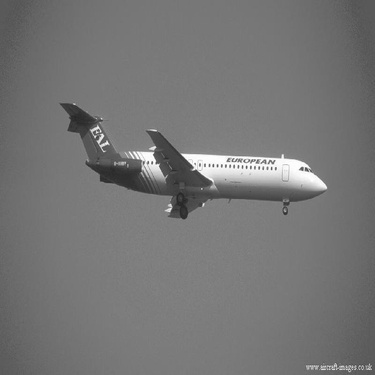airplane: (27, 87, 353, 246)
